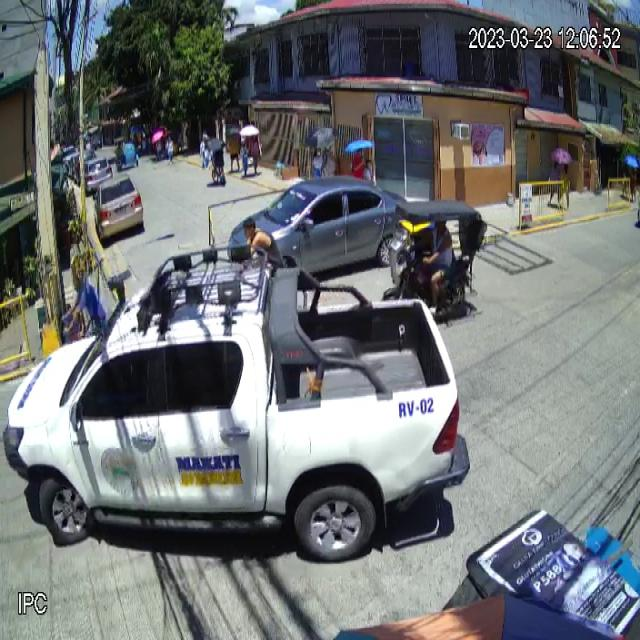Car: (4, 240, 470, 562)
